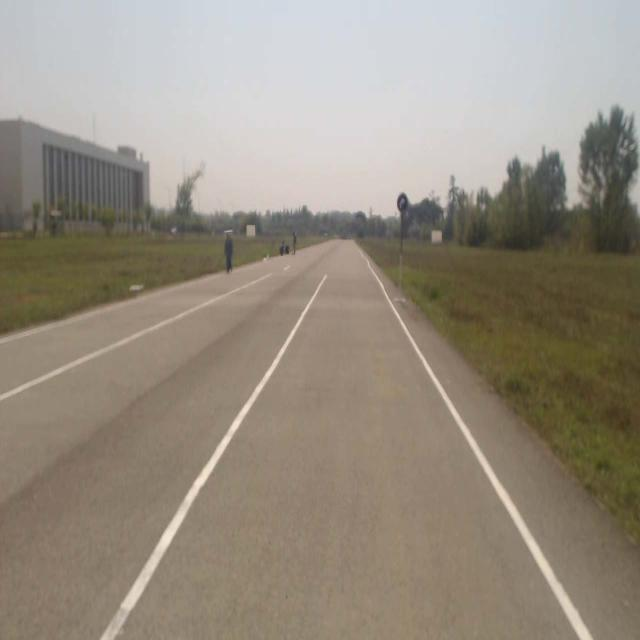sag: (398, 193, 408, 211)
